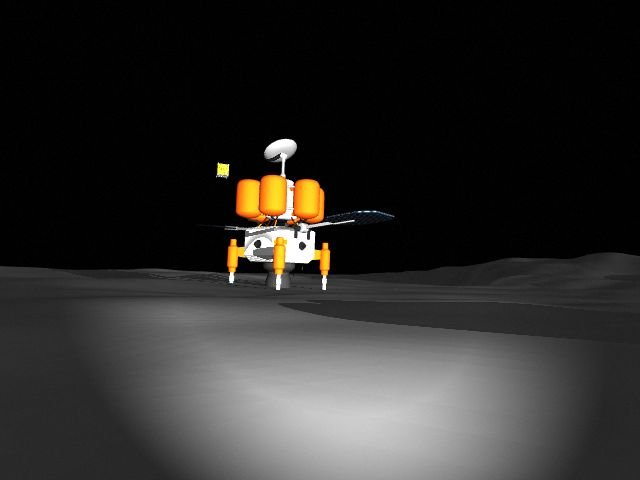cubesat: (212, 160, 231, 180)
